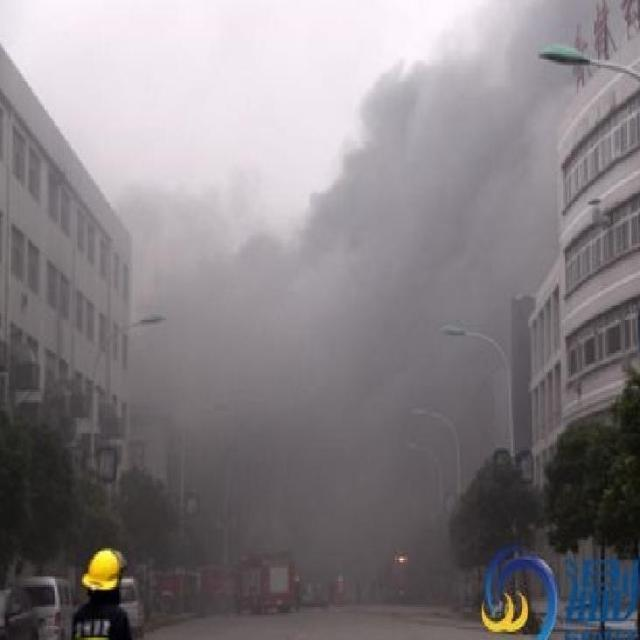Smoke: (119, 1, 591, 605)
